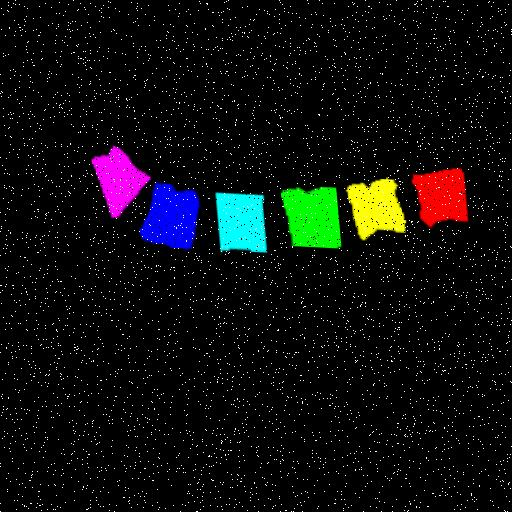L1: (409, 163, 462, 223)
L2: (343, 175, 400, 235)
L3: (278, 184, 336, 245)
L4: (211, 190, 261, 250)
L5: (136, 182, 194, 247)
S1: (89, 146, 145, 216)
